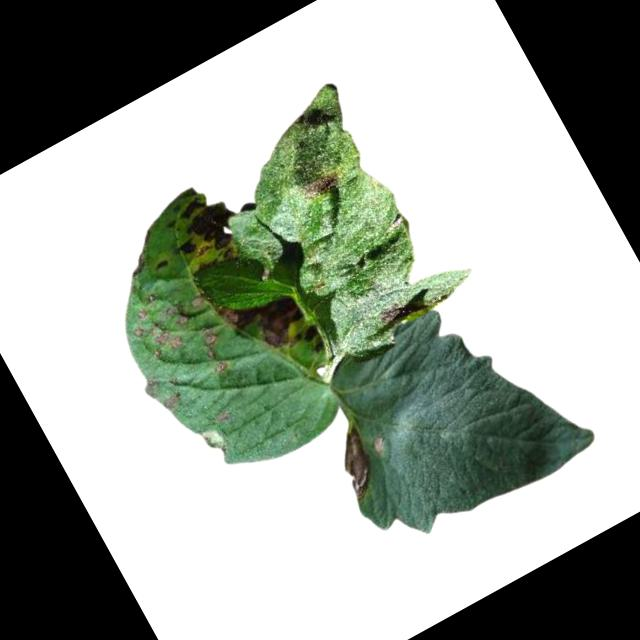Early_blight: (215, 271, 324, 378), (165, 184, 249, 266), (323, 423, 391, 503), (191, 318, 236, 376), (296, 166, 344, 205), (150, 325, 185, 359), (160, 299, 191, 331), (376, 304, 405, 330), (150, 256, 173, 278), (184, 292, 207, 312)
